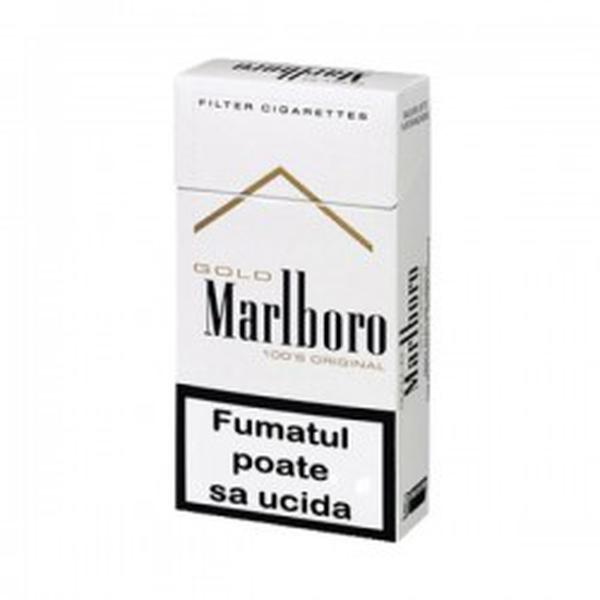marlboro_gold: (180, 84, 393, 507)
